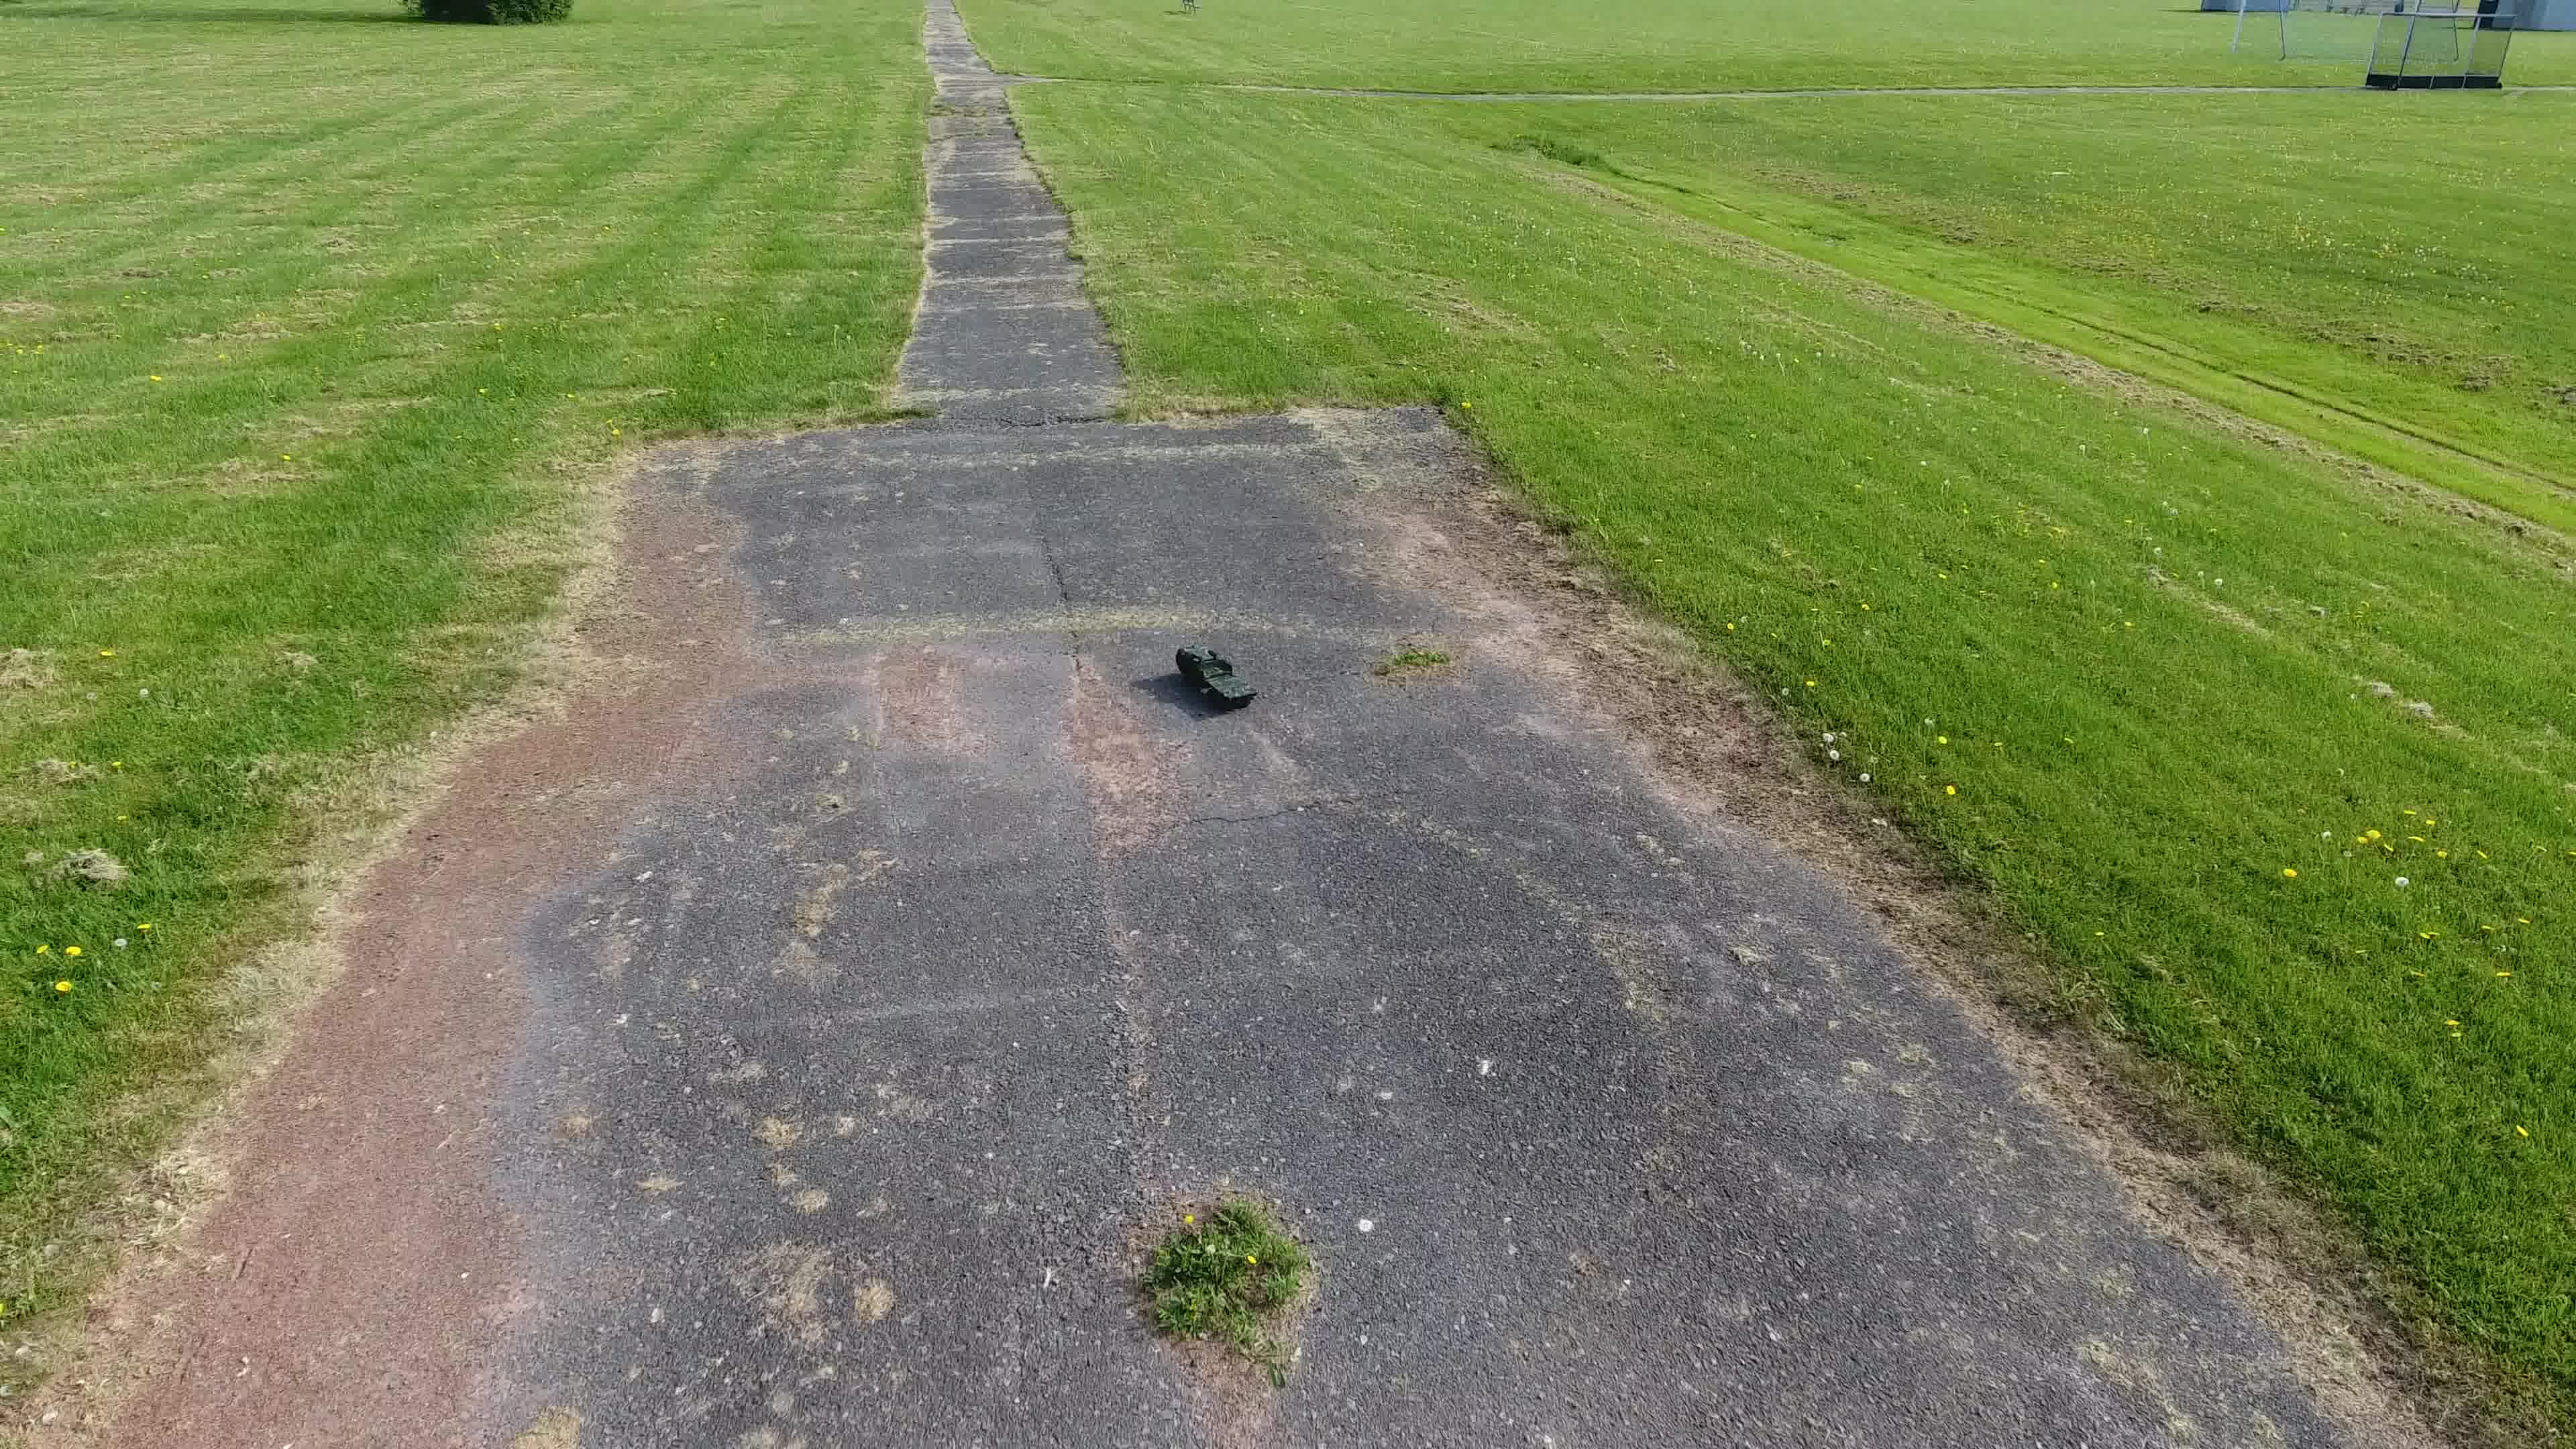transporter9_camo: (1171, 640, 1260, 709)
